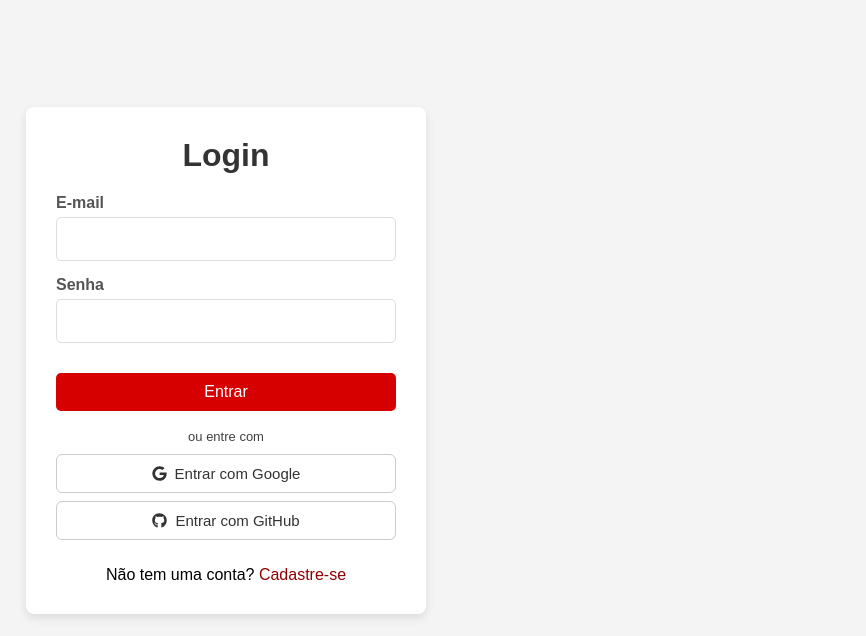
Test: App — login social agora existe na interface (AC-AUTH-03, AC-AUTH-04) › com o popup pronto para responder, o clique leva a uma sessão de verdade
This screenshot has width=866, height=636.
Step 1. Click the button "Entrar com Google" → click(226, 473), box [56, 454, 396, 492]
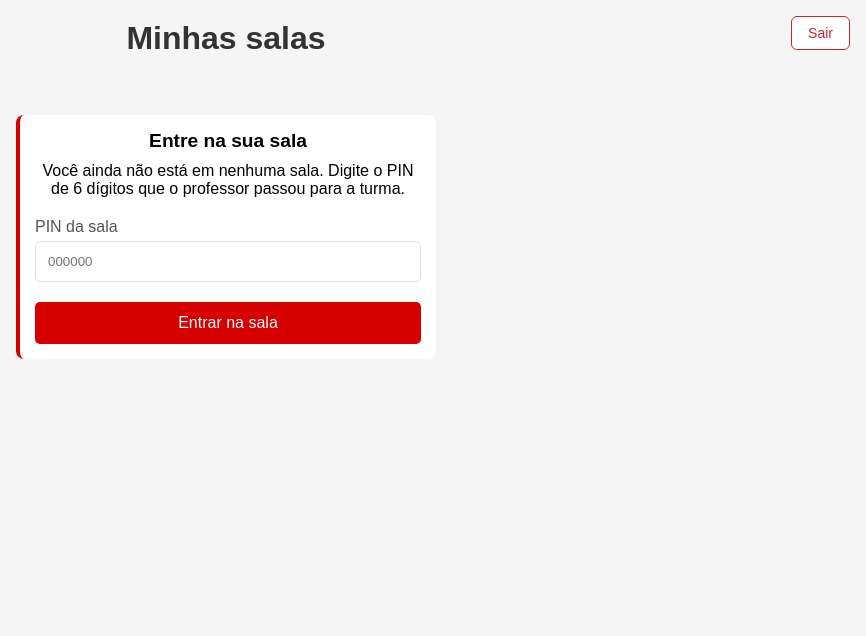
Check: the heading "Minhas salas" is shown, box [126, 20, 326, 56]
